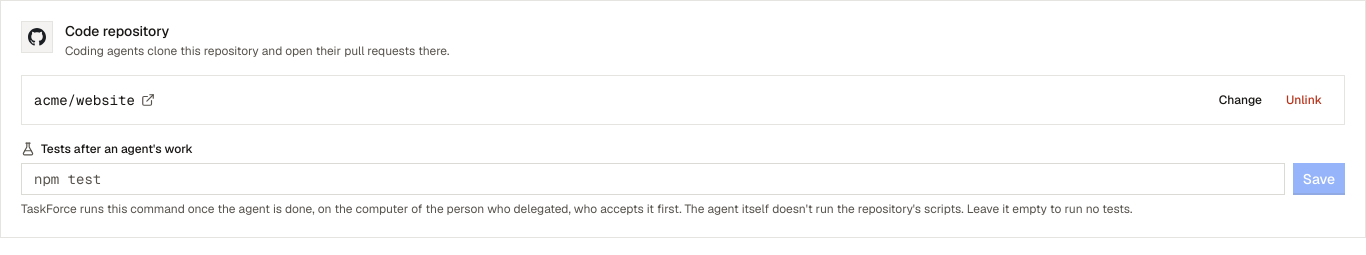
Test: ProjectRepositoryCard : le dépôt de code d'un projet › « Change » rouvre la saisie, « Cancel » la referme sans rien changer
This screenshot has width=1366, height=255.
Click the button "Change". click: (1240, 100)
box: [1209,86,1272,114]
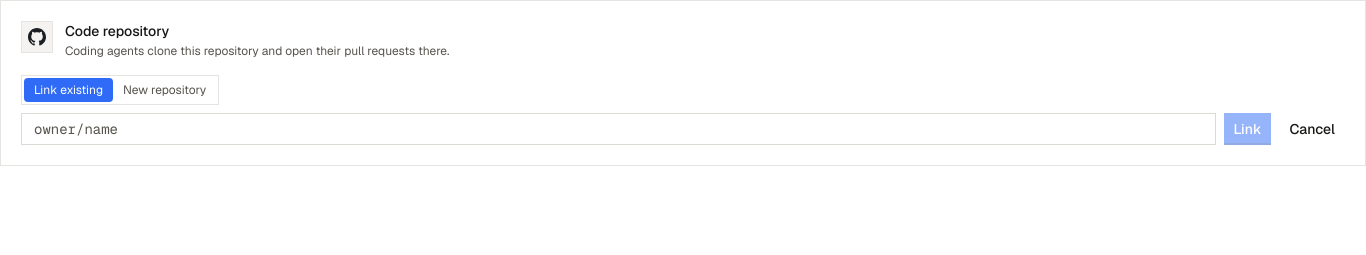
Check: the field named "Repository (owner/name)" is shown, box [21,113,1216,145]
Click the button "Cancel". click: (1312, 129)
box: [1279,113,1345,145]
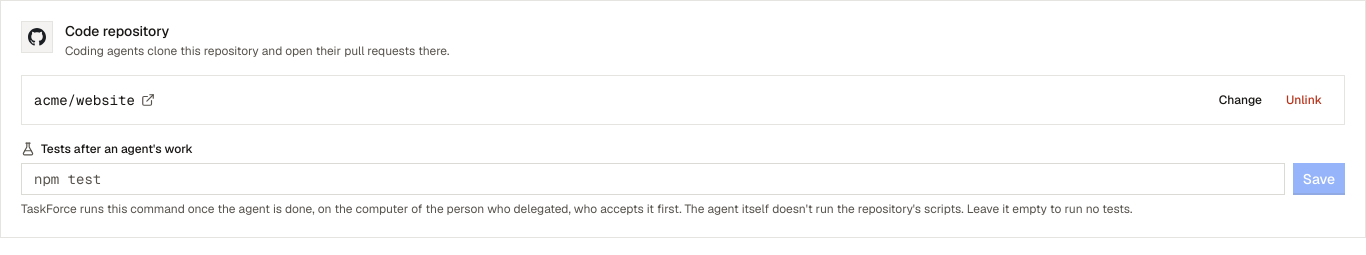
Check: the link "acme/website" is shown, box [34,90,155,110]
